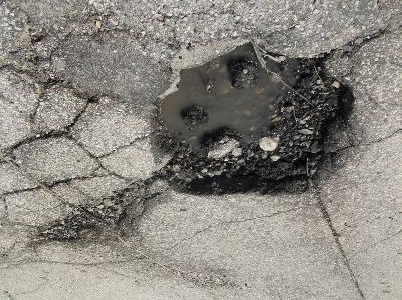pothole: (144, 42, 359, 200), (33, 181, 151, 246)
